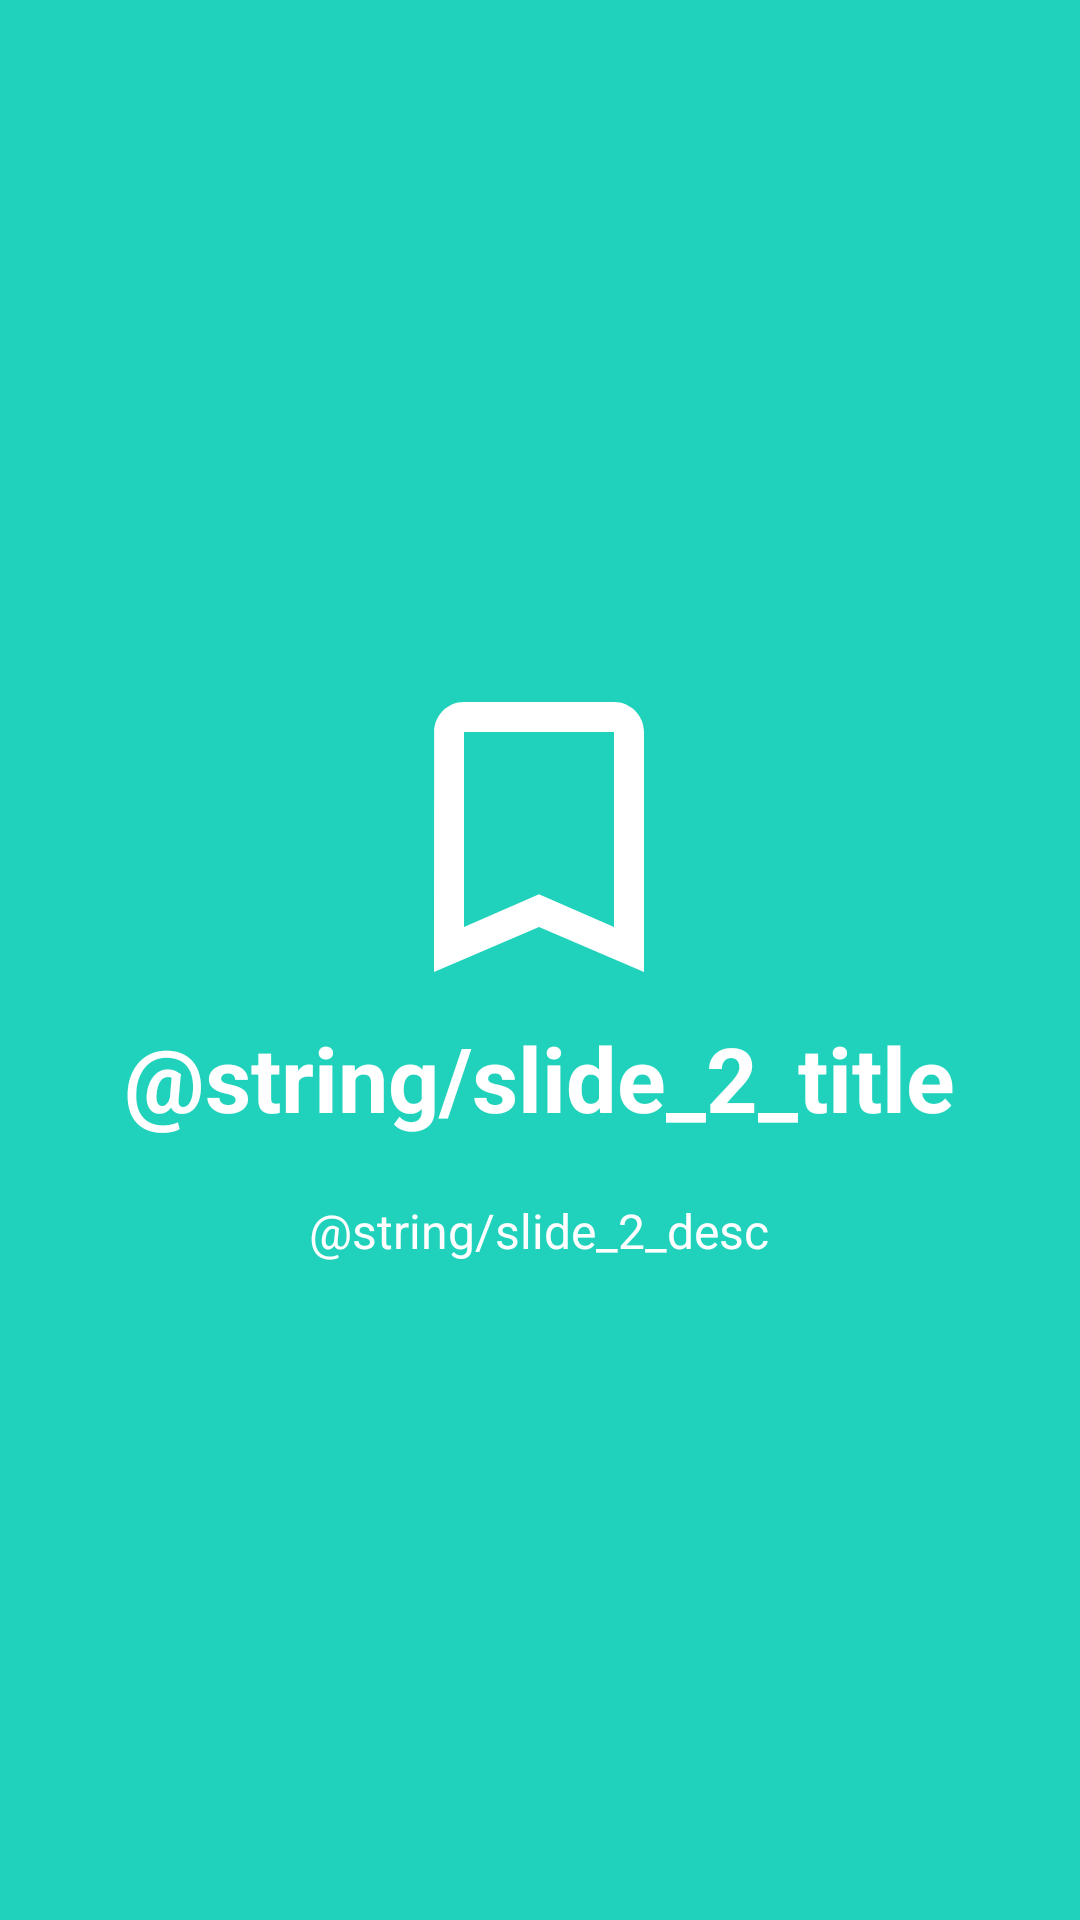

Point at icon controls on the screen. Image size 1080 x 1920, points as point (x, y).
bookmark border: point (539, 837)
